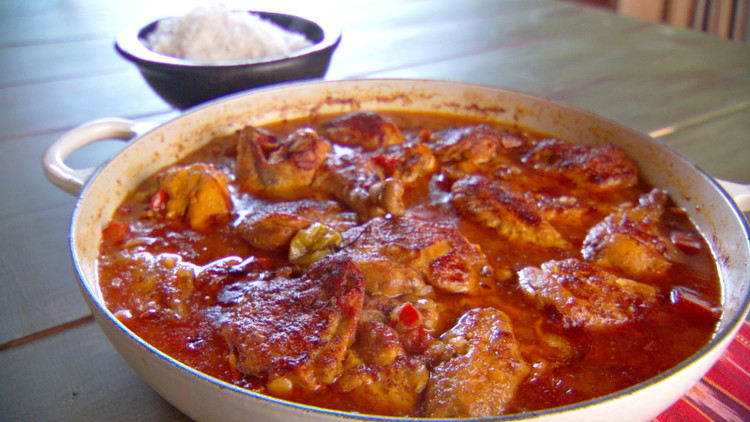chicken_curry: (143, 133, 699, 386)
